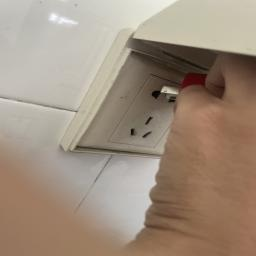outlet: (63, 18, 208, 167)
